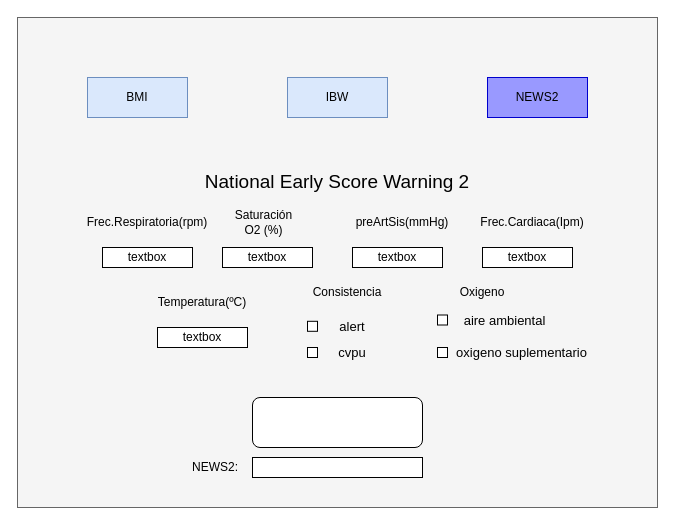
This 675x525 diagram has some shape labels left out. The centre of each missing label's shape, as x and y in pixels:
"CALCULAR" goes at point 337,422.
"resultado" goes at point 337,467.
